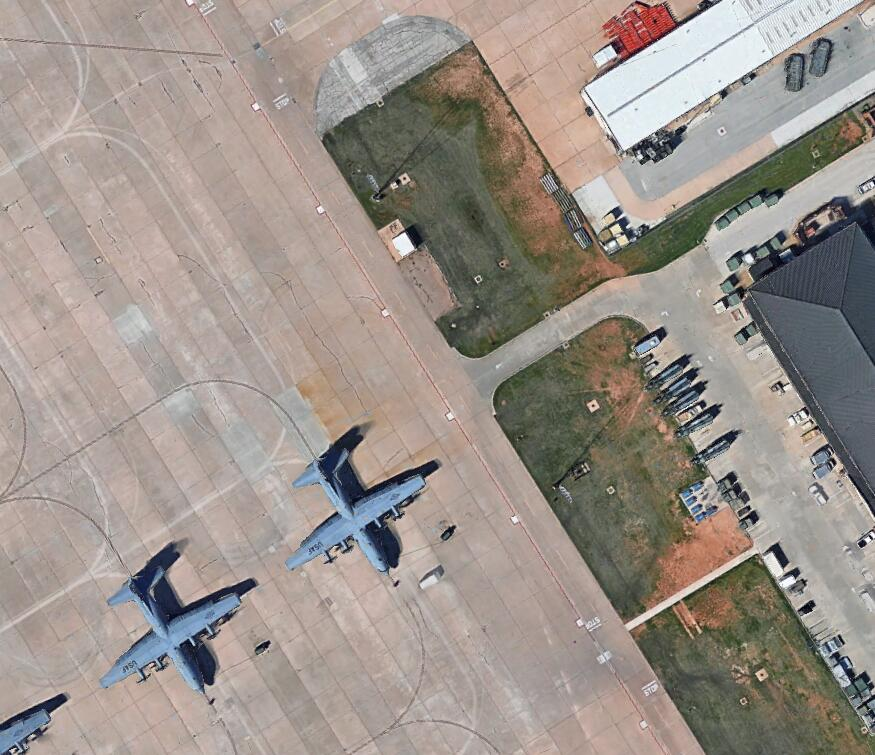A2: (93, 536, 260, 701), (285, 421, 444, 575)
